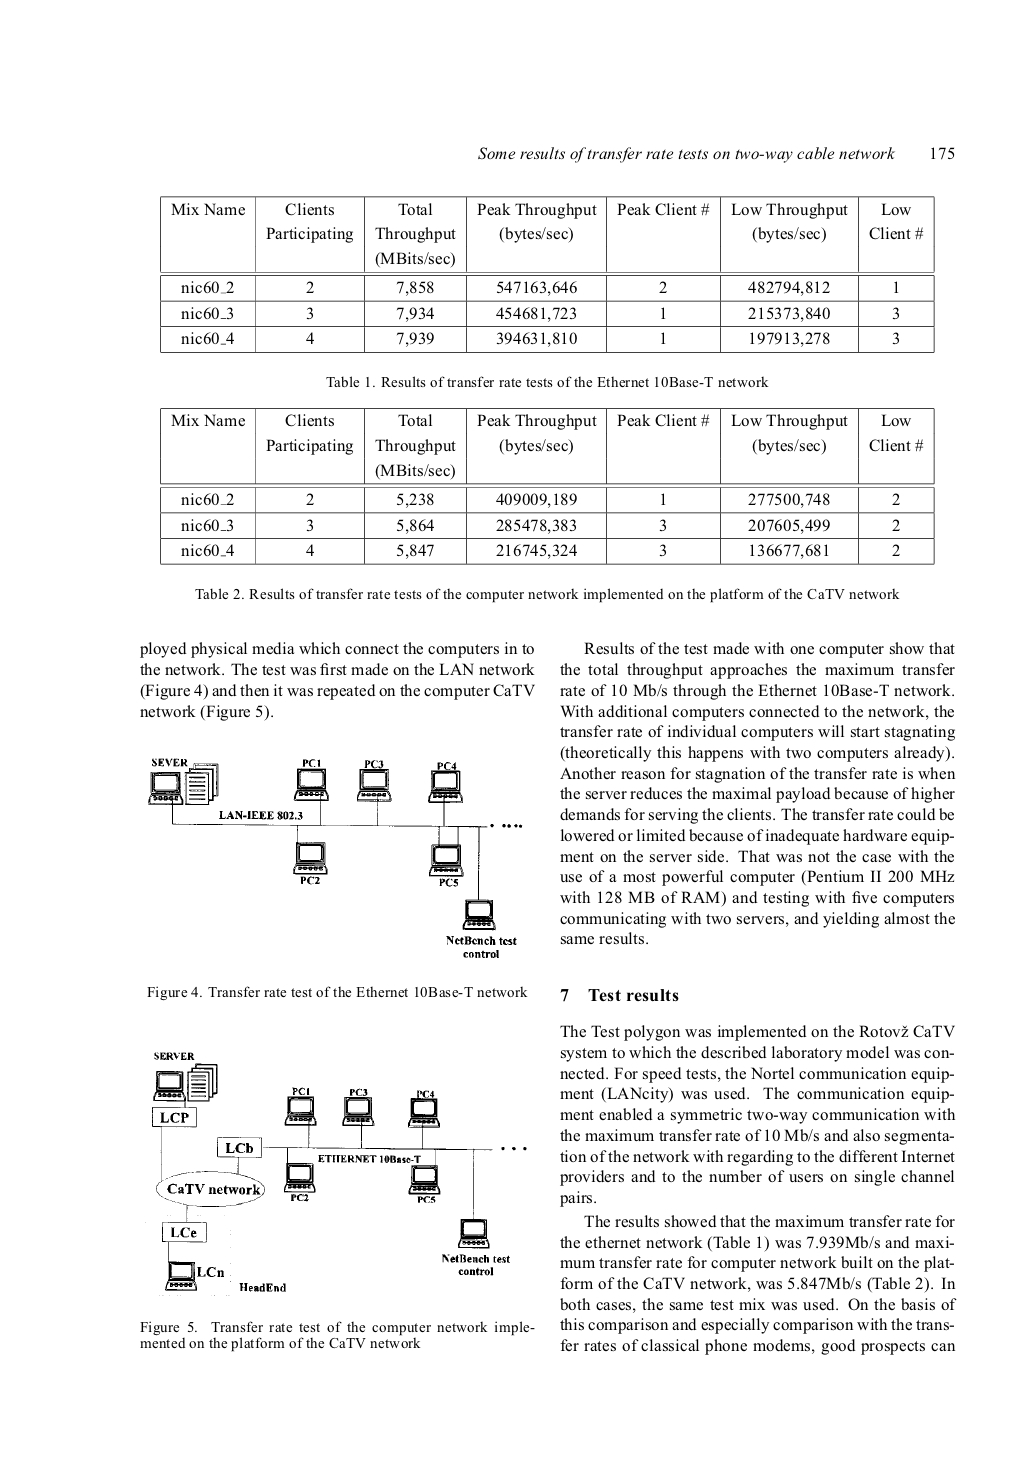Table: (160, 407, 934, 566), (160, 195, 934, 352)
figure: (145, 1051, 526, 1292), (148, 759, 522, 957)
